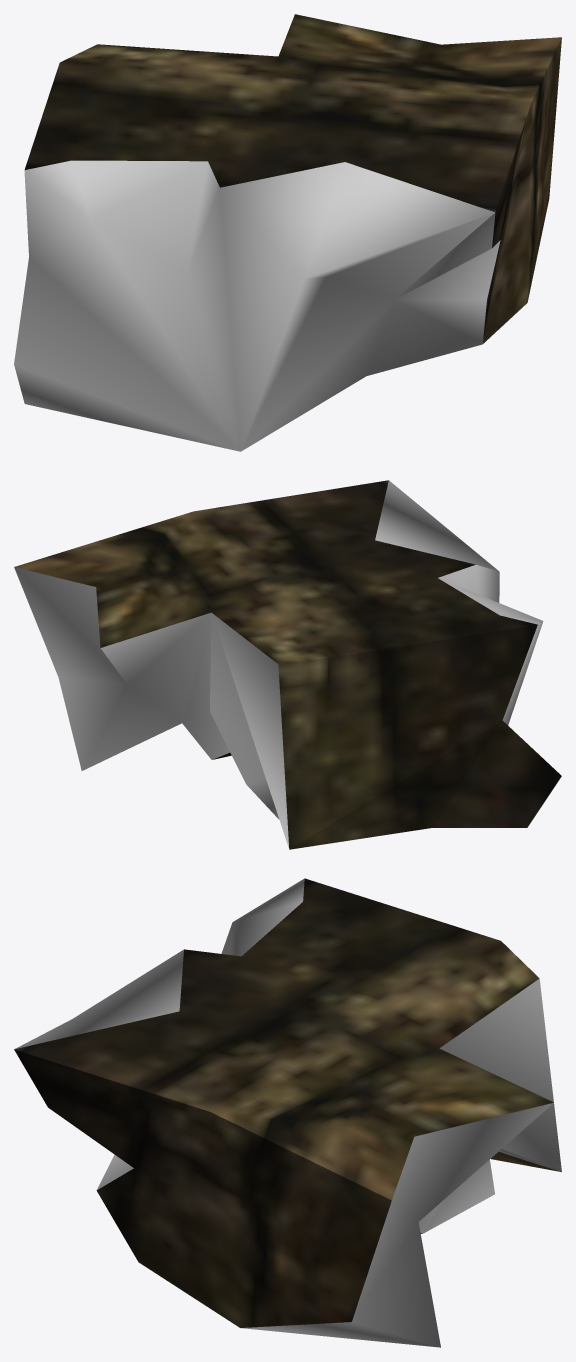
File: dungeon_small01.dae
The picture shows the model from 3 angles, top to bottom: view 1: azimuth 30°, elevation 25°; view 2: azimuth 150°, elevation 25°; view 3: azimuth 270°, elevation 25°; orthographic projection. The views are drawn at different scales.
Parts seen in each view (by area): view 1: broken_pieces1, broken_pieces2; view 2: broken_pieces2, broken_pieces1; view 3: broken_pieces2, broken_pieces1.
Boxes of the visible parts, x1,y1,x2,y2 form: broken_pieces1: [14, 160, 500, 451]; broken_pieces2: [24, 14, 561, 343]; broken_pieces2: [14, 480, 561, 849]; broken_pieces1: [14, 480, 543, 848]; broken_pieces2: [14, 878, 560, 1327]; broken_pieces1: [14, 878, 561, 1347].
Size of the model in its own units: 0.7292 by 0.2955 by 0.5804.
